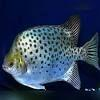Scat Fish: (3, 11, 99, 92)
